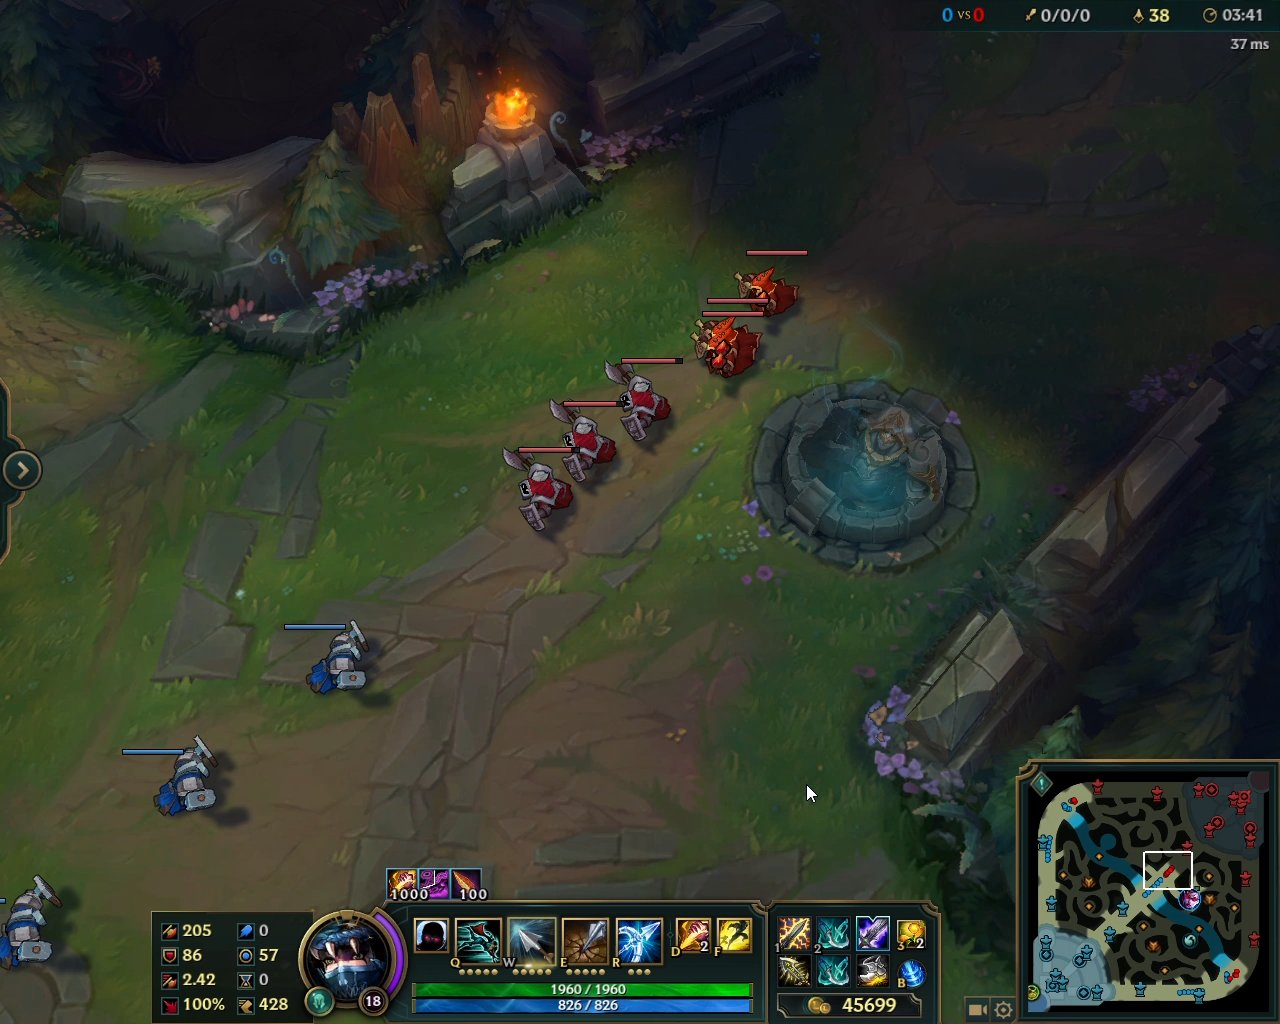EnemyMinion: (539, 400, 630, 484), (602, 356, 686, 444), (495, 444, 577, 535), (727, 249, 815, 321), (696, 310, 767, 374)
